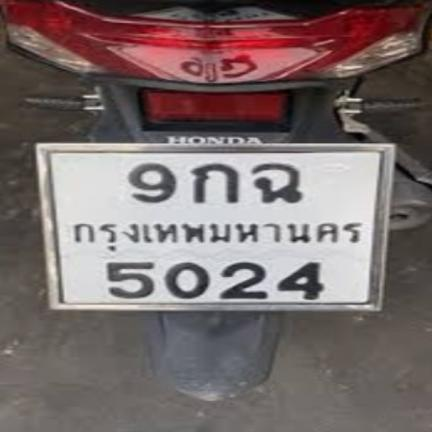0: (159, 260, 214, 300)
2: (218, 257, 273, 301)
4: (276, 256, 335, 301)
5: (100, 257, 158, 302)
9: (124, 160, 177, 206)
A01: (185, 163, 240, 210)
A09: (244, 160, 306, 205)
BKK: (65, 215, 363, 253)
